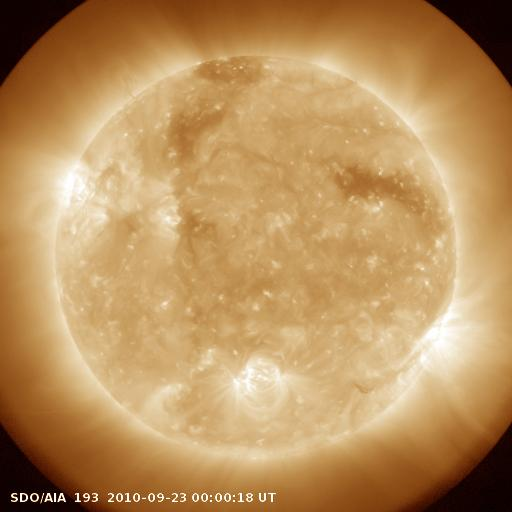coronal_hole: (169, 46, 262, 157), (329, 156, 437, 218)
